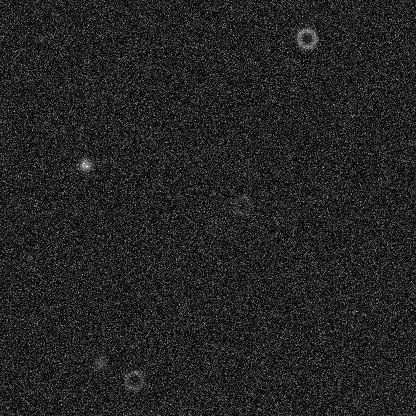Ring: (229, 192, 253, 216), (294, 26, 318, 50), (122, 368, 146, 392)
Spot: (77, 156, 93, 172), (91, 355, 107, 371)
